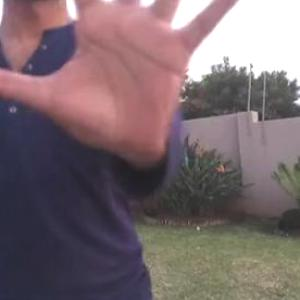follow_hand: (1, 0, 253, 173)
